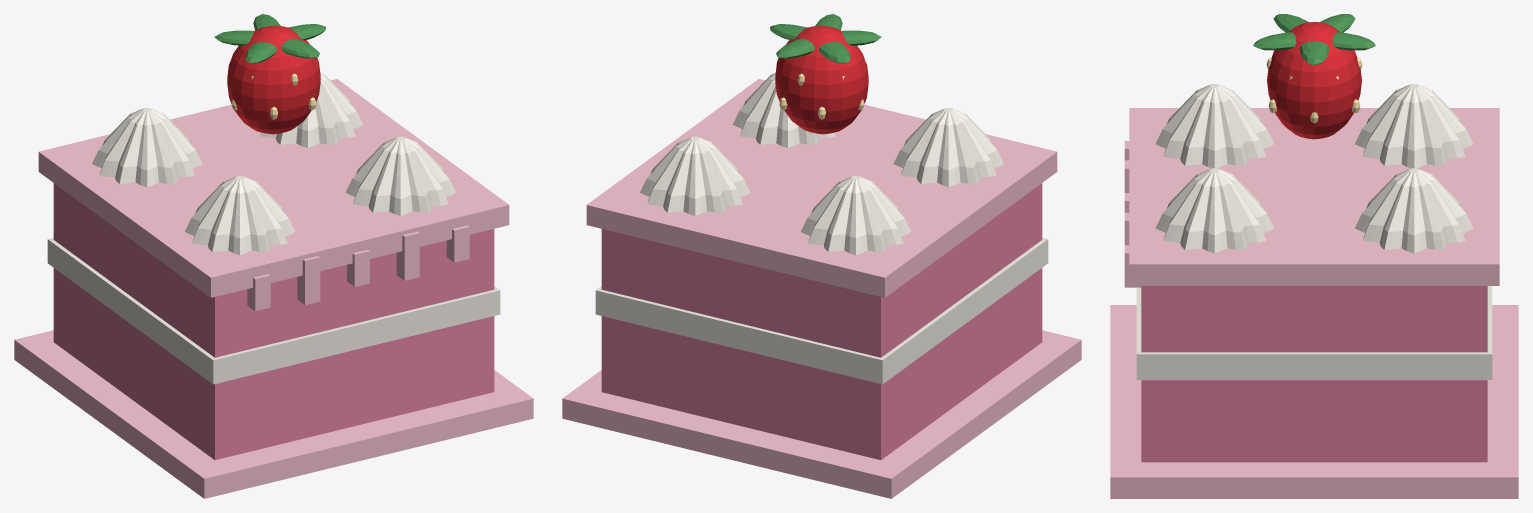
3 views of the same model, side by side, from view 1: azimuth 30°, elevation 25°; view 2: azimuth 150°, elevation 25°; view 3: azimuth 270°, elevation 25° (orthographic). The views are drawn at different scales.
Visible parts, largest first — view 1: PinkGlaze, LowerSponge, UpperSponge, PinkBoard, VanillaFilling, Berry_Berry, CreamRosette_0, CreamRosette_2, CreamRosette_1, CreamRosette_3, FrontDrip_1, FrontDrip_3 (+3 smaller); view 2: PinkGlaze, LowerSponge, UpperSponge, PinkBoard, VanillaFilling, Berry_Berry, CreamRosette_1, CreamRosette_3, CreamRosette_0, CreamRosette_2; view 3: PinkGlaze, LowerSponge, PinkBoard, UpperSponge, VanillaFilling, Berry_Berry, CreamRosette_2, CreamRosette_3, CreamRosette_1, CreamRosette_0, Berry_Leaf_1, Berry_Leaf_4 (+1 smaller).
Part boxes in pixels (bbox=[...]): PinkGlaze: bbox=[38, 79, 509, 297]; LowerSponge: bbox=[53, 268, 494, 460]; UpperSponge: bbox=[53, 183, 494, 357]; PinkBoard: bbox=[14, 330, 533, 498]; VanillaFilling: bbox=[47, 237, 500, 384]; Berry_Berry: bbox=[227, 25, 320, 134]; CreamRosette_0: bbox=[184, 175, 295, 255]; CreamRosette_2: bbox=[345, 136, 455, 215]; CreamRosette_1: bbox=[92, 107, 202, 187]; CreamRosette_3: bbox=[260, 73, 363, 147]; FrontDrip_1: bbox=[297, 256, 320, 304]; FrontDrip_3: bbox=[396, 231, 419, 280]; PinkGlaze: bbox=[586, 79, 1057, 297]; LowerSponge: bbox=[601, 268, 1042, 460]; UpperSponge: bbox=[601, 183, 1042, 357]; PinkBoard: bbox=[562, 330, 1081, 498]; VanillaFilling: bbox=[595, 237, 1048, 384]; Berry_Berry: bbox=[775, 25, 868, 134]; CreamRosette_1: bbox=[800, 175, 911, 255]; CreamRosette_3: bbox=[640, 136, 750, 215]; CreamRosette_0: bbox=[893, 107, 1003, 187]; CreamRosette_2: bbox=[732, 73, 835, 147]; PinkGlaze: bbox=[1129, 108, 1499, 285]; LowerSponge: bbox=[1141, 380, 1487, 462]; PinkBoard: bbox=[1110, 305, 1518, 498]; UpperSponge: bbox=[1141, 286, 1487, 352]; VanillaFilling: bbox=[1136, 286, 1492, 379]; Berry_Berry: bbox=[1267, 22, 1361, 139]; CreamRosette_2: bbox=[1155, 168, 1273, 253]; CreamRosette_3: bbox=[1355, 168, 1473, 253]; CreamRosette_1: bbox=[1355, 83, 1473, 168]; CreamRosette_0: bbox=[1155, 84, 1273, 168]; Berry_Leaf_1: bbox=[1332, 32, 1375, 50]; Berry_Leaf_4: bbox=[1253, 32, 1296, 50].
Size of the model in its own units: 0.086 by 0.09 by 0.086.
